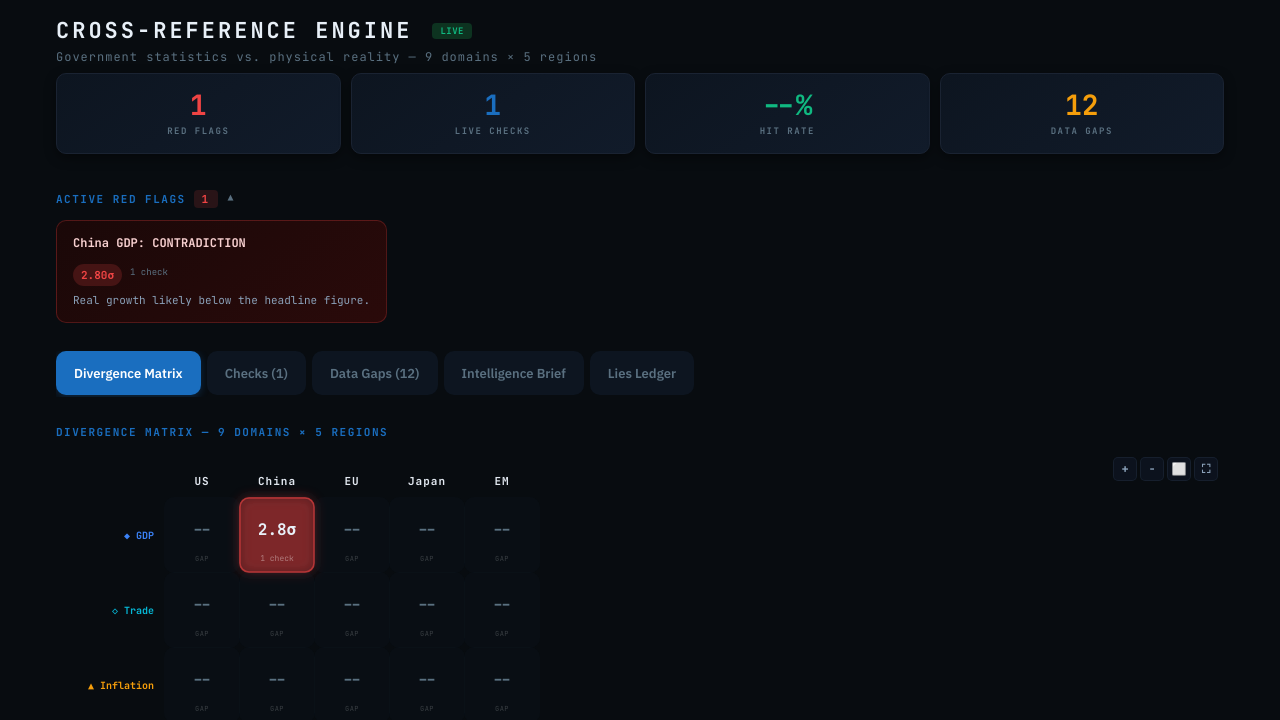
Test: CrossReference view async data › renders the real payload as a chart and table, not a placeholder
Expected: the text "LIVE" is shown, [432,22,472,38]
Expected: the button "Divergence Matrix" is shown, [56,351,201,395]
Click the button "Checks (1)" at x=256, y=373, box [207,351,306,395]
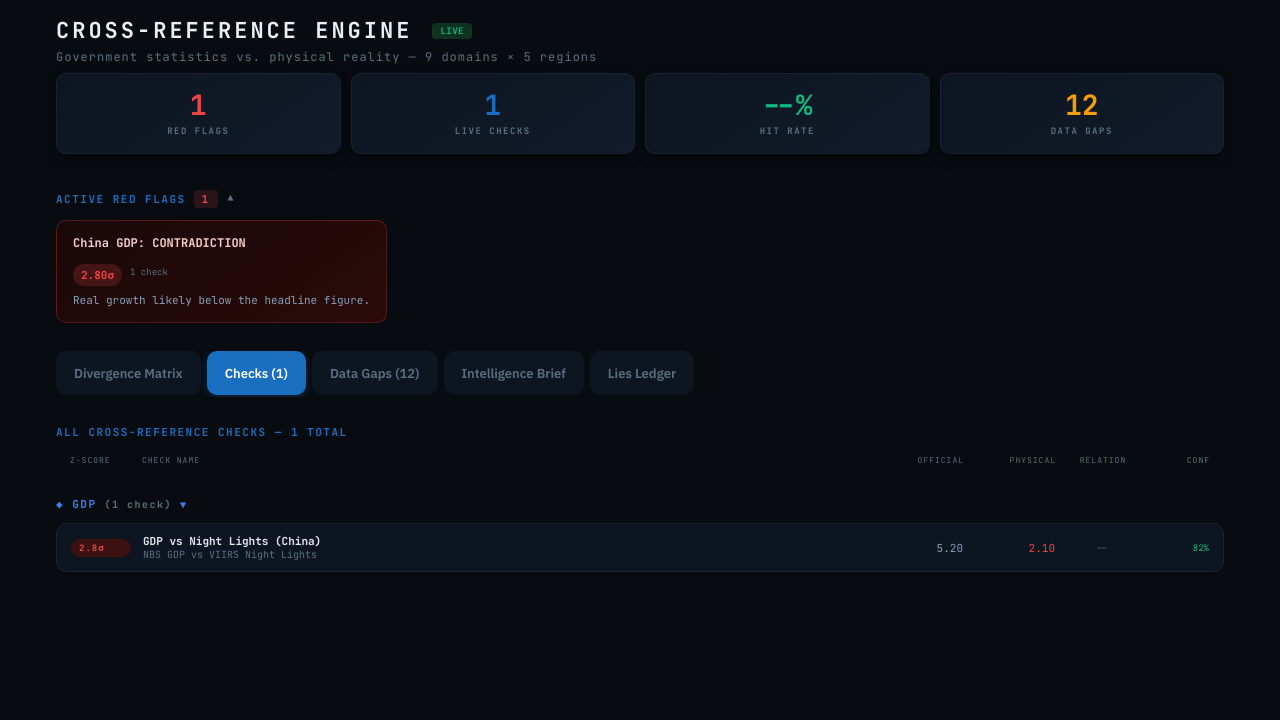
Expected: the text "GDP vs Night Lights (China)" is shown, [143,534,321,548]
